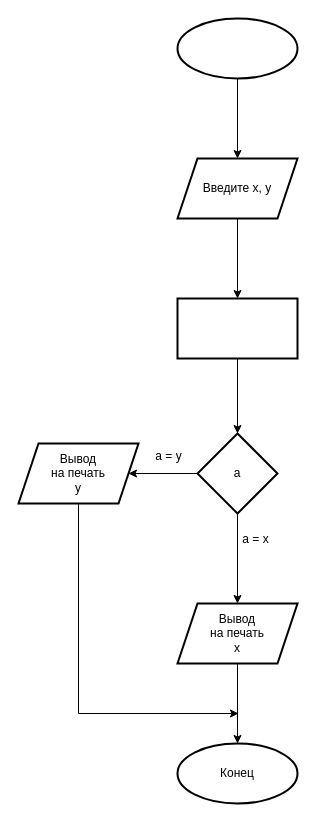
Image size: 315x821. Some labels were removed from this diagram. Each missing label, with the centre of its shape:
"a = x > y" goes at (x=237, y=328).
"Начало" goes at (x=237, y=48).
